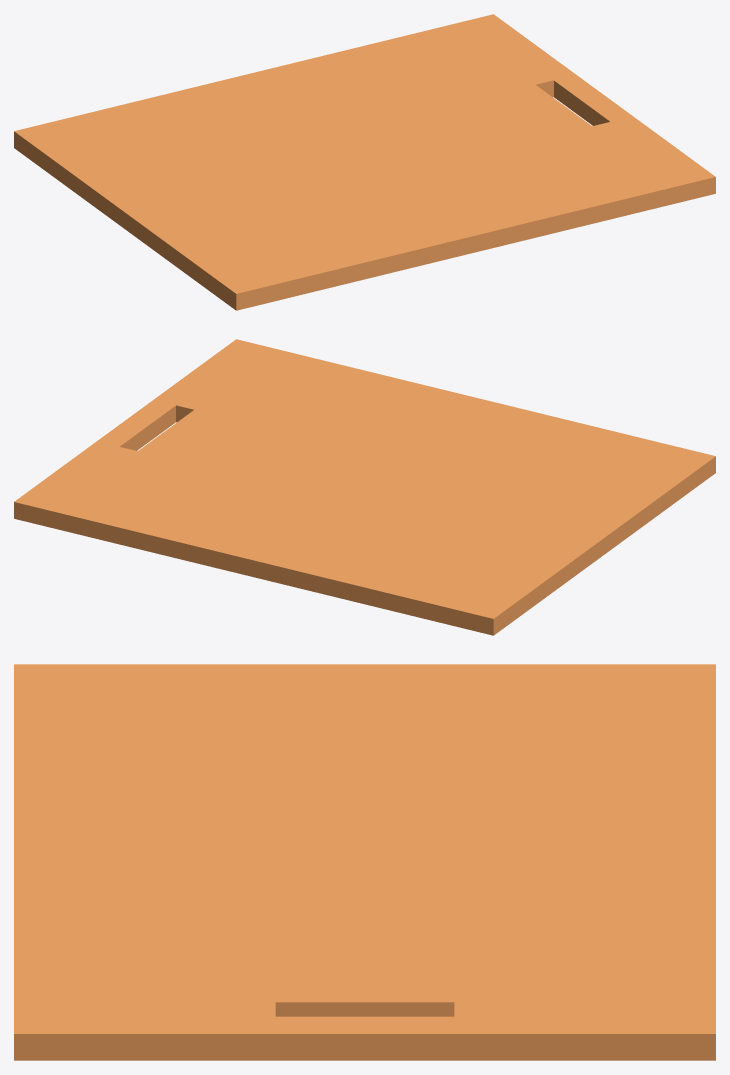
File: CutPlane.fbx
3 renders of one model, top to bottom at view 1: azimuth 30°, elevation 25°; view 2: azimuth 150°, elevation 25°; view 3: azimuth 270°, elevation 25°, orthographic. The views are drawn at different scales.
Visible parts, largest first — view 1: CutPlane; view 2: CutPlane; view 3: CutPlane.
Boxes of the visible parts, x1,y1,x2,y2 form: CutPlane: (14,14,715,310); CutPlane: (14,339,715,635); CutPlane: (14,664,715,1060).
Size of the model in its own units: 0.9149 by 0.0307 by 0.7345.
